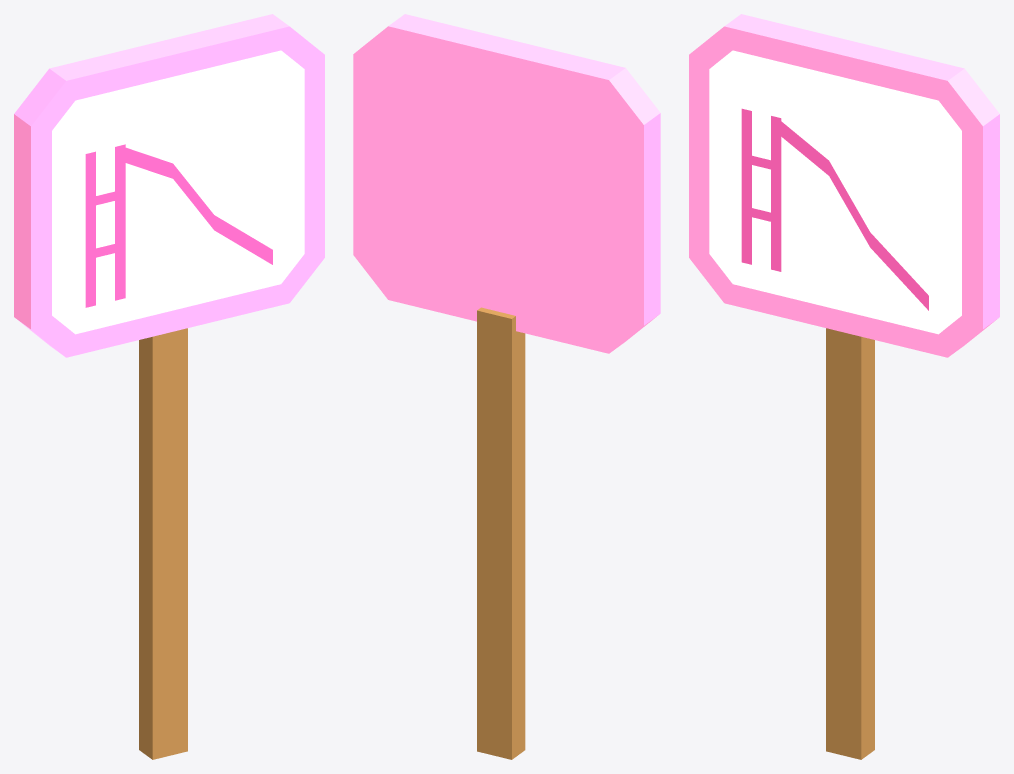
Rendered from sign-slide-toy.glb.
The picture shows the model from 3 angles, left to right: view 1: azimuth 30°, elevation 25°; view 2: azimuth 150°, elevation 25°; view 3: azimuth 330°, elevation 25°; orthographic projection.
Parts seen in each view (by area): view 1: sign-slide-toy; view 2: sign-slide-toy; view 3: sign-slide-toy.
Boxes of the visible parts, x1,y1,x2,y2 form: sign-slide-toy: (14, 14, 324, 759); sign-slide-toy: (353, 14, 660, 759); sign-slide-toy: (689, 14, 999, 759).
Bounding box in the file's own units: 1 × 2.3 × 0.131.
